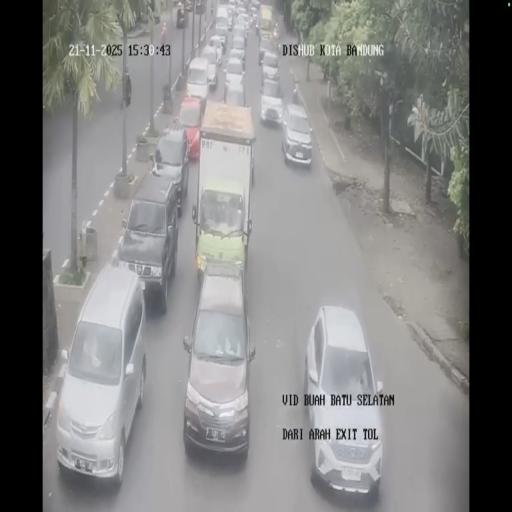3: (194, 102, 256, 270), (258, 3, 274, 41)
car: (56, 266, 147, 484), (149, 130, 190, 215), (281, 102, 313, 168), (186, 56, 211, 105), (259, 76, 283, 126), (214, 4, 229, 43), (261, 49, 279, 80), (225, 55, 244, 84), (208, 34, 224, 62), (250, 2, 260, 32), (226, 6, 235, 28)
